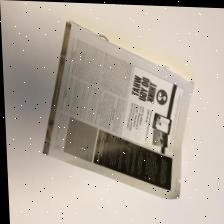paper: (30, 14, 203, 213)
